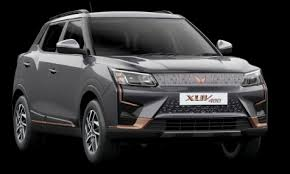XUV 400: (10, 8, 270, 164)
